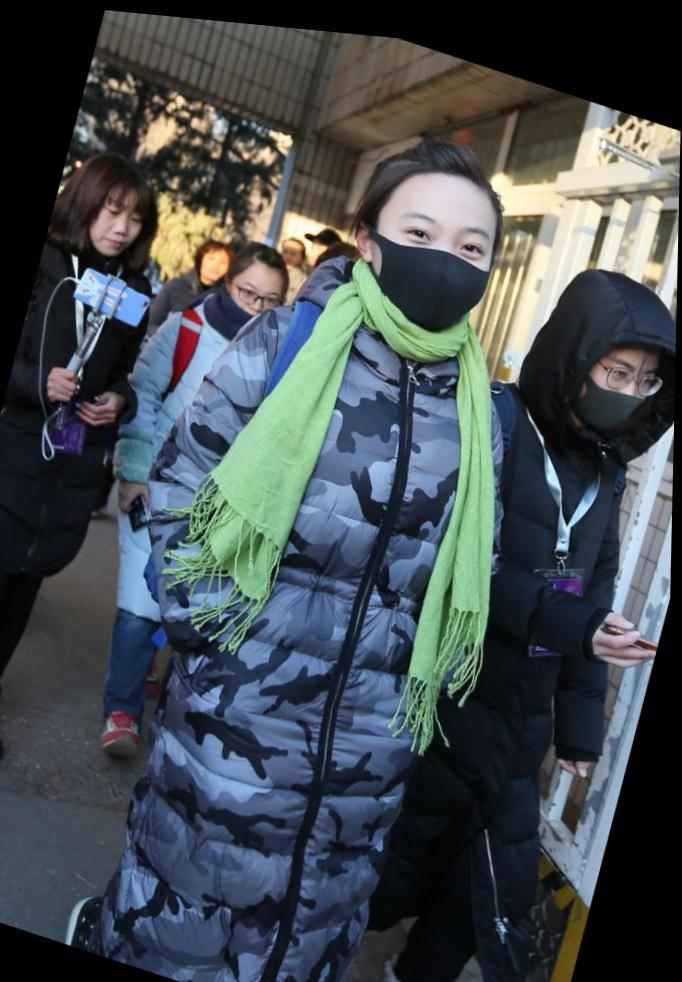NONE: (83, 185, 150, 264), (201, 243, 233, 281), (279, 236, 306, 265)
OK: (364, 174, 505, 339), (573, 322, 664, 432)
WRONG: (228, 266, 286, 329)
